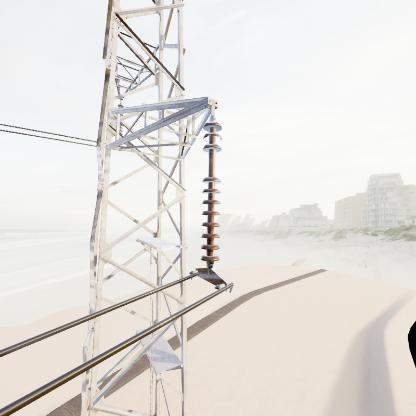insulator: (200, 119, 224, 271)
